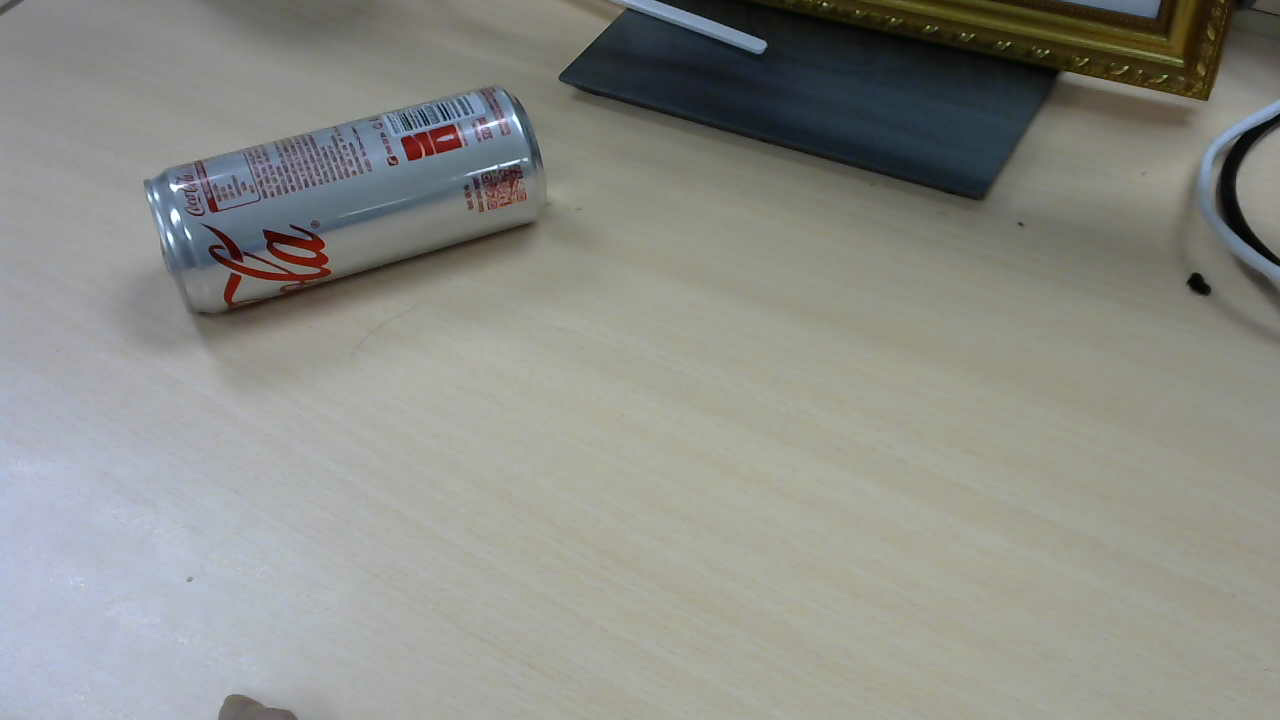Coca_Cola: (149, 96, 562, 331)
